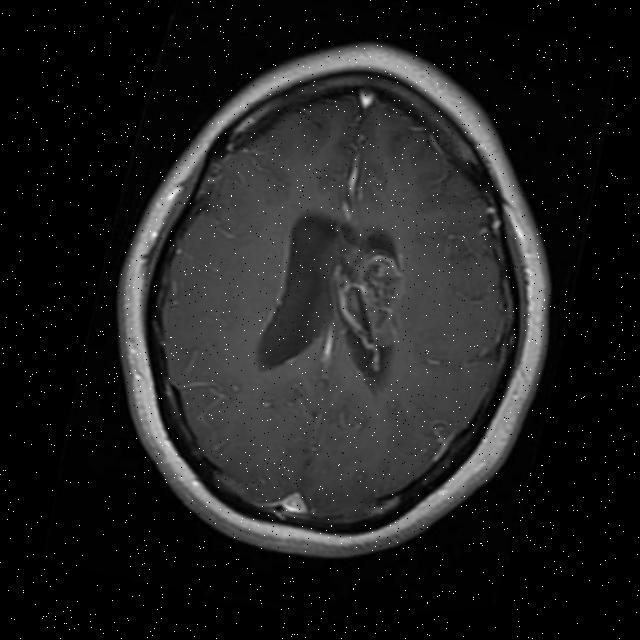Glioma: (308, 235, 421, 381)
